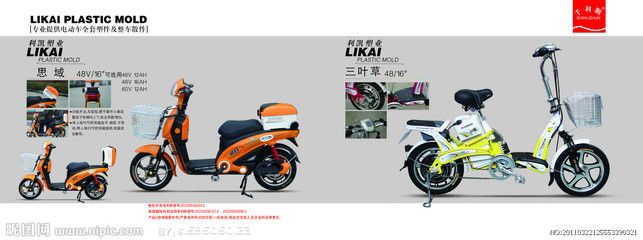non-vehicle: (395, 36, 614, 203), (127, 78, 302, 200), (17, 134, 126, 204)
